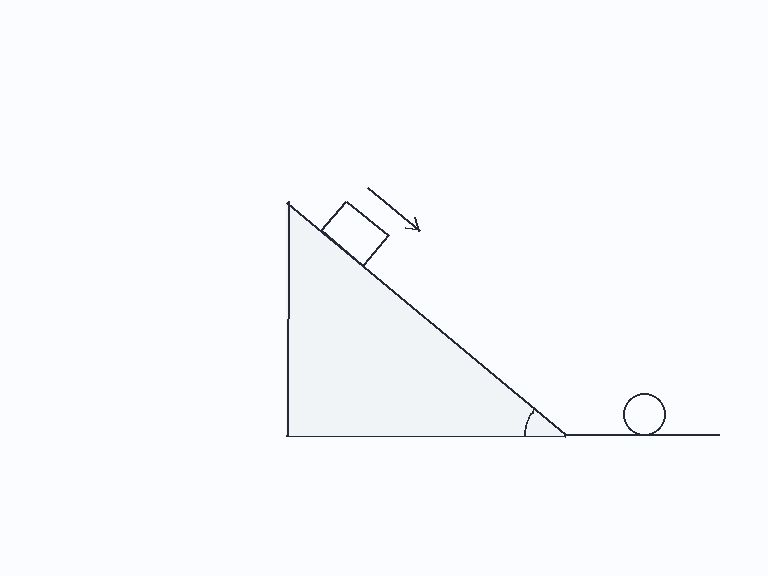ball: (621, 391, 667, 437)
block: (319, 199, 389, 267)
ramp: (285, 200, 567, 437)
